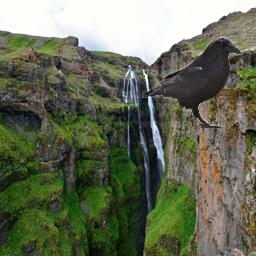Crow: (142, 36, 242, 128)
